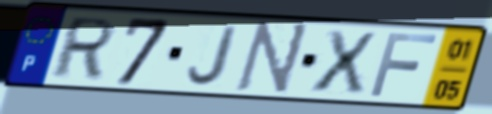7: (118, 14, 173, 88)
F: (367, 30, 441, 99)
J: (185, 23, 243, 88)
N: (231, 19, 313, 98)
R: (46, 15, 119, 80)
X: (308, 28, 381, 95)
